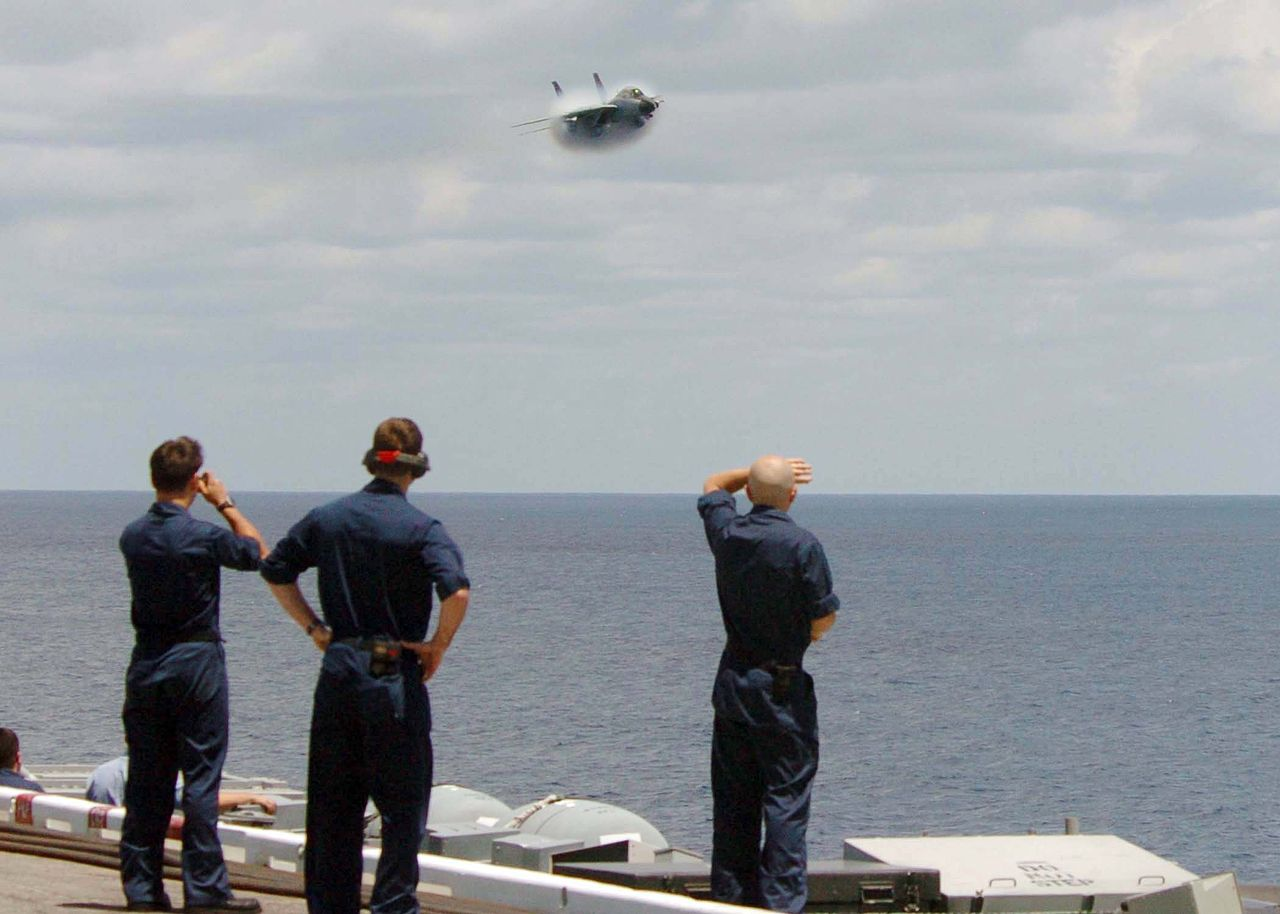F14: (510, 72, 666, 138)
